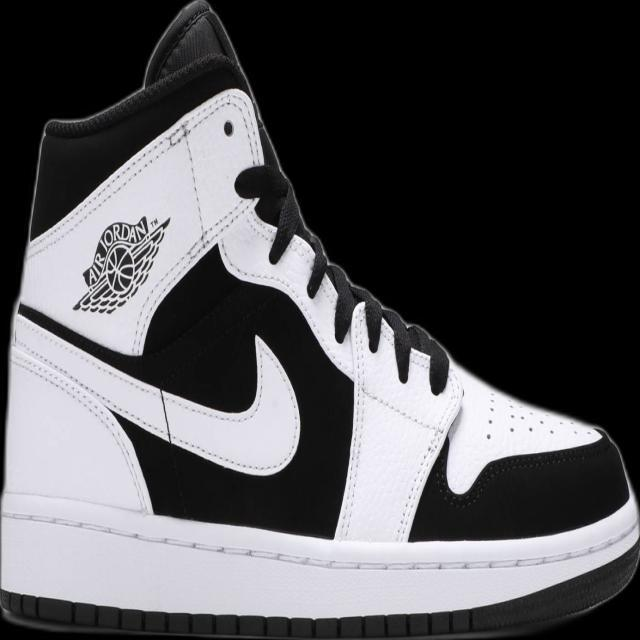J1_InsoleChar: (0, 0, 638, 639)
J1_ShoeLogo: (71, 214, 171, 314)
J1_StitchPattern: (18, 89, 465, 539), (231, 158, 605, 484), (232, 160, 453, 395), (9, 304, 303, 478), (2, 504, 638, 576), (332, 295, 459, 541), (7, 336, 154, 516), (1, 590, 475, 638), (313, 257, 452, 394), (332, 298, 371, 542), (478, 387, 601, 448), (480, 388, 498, 443)
